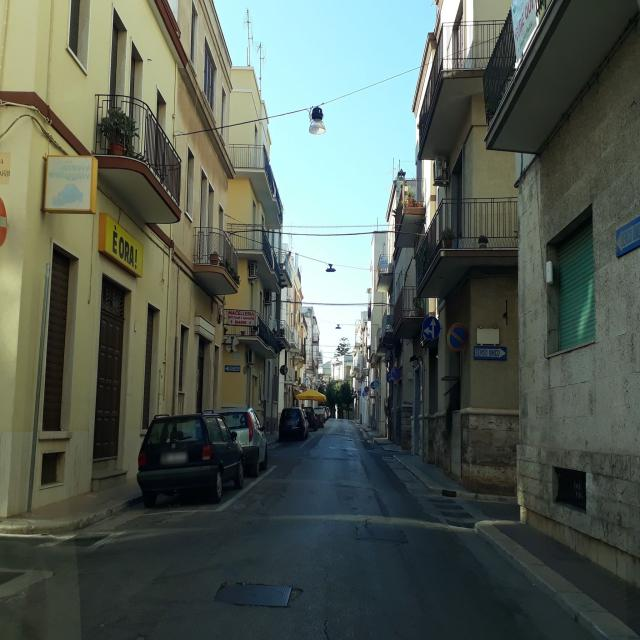forb_stopping: (445, 321, 469, 356), (391, 367, 401, 381)
